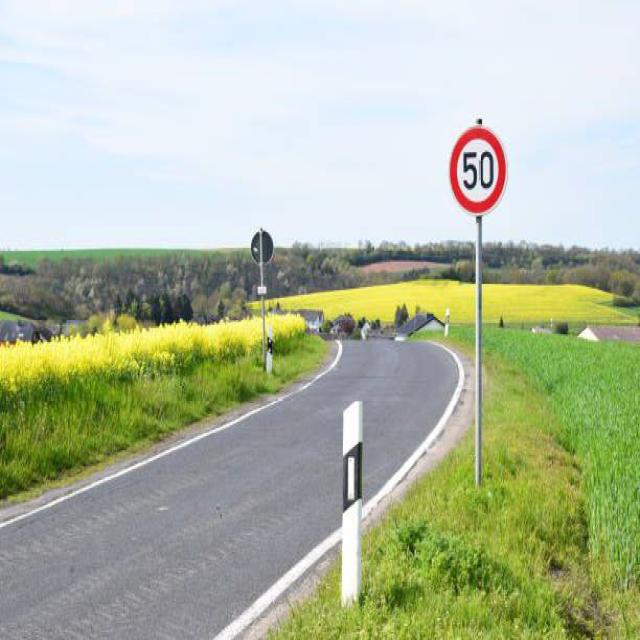speed_limit_50: (451, 132, 515, 216)
